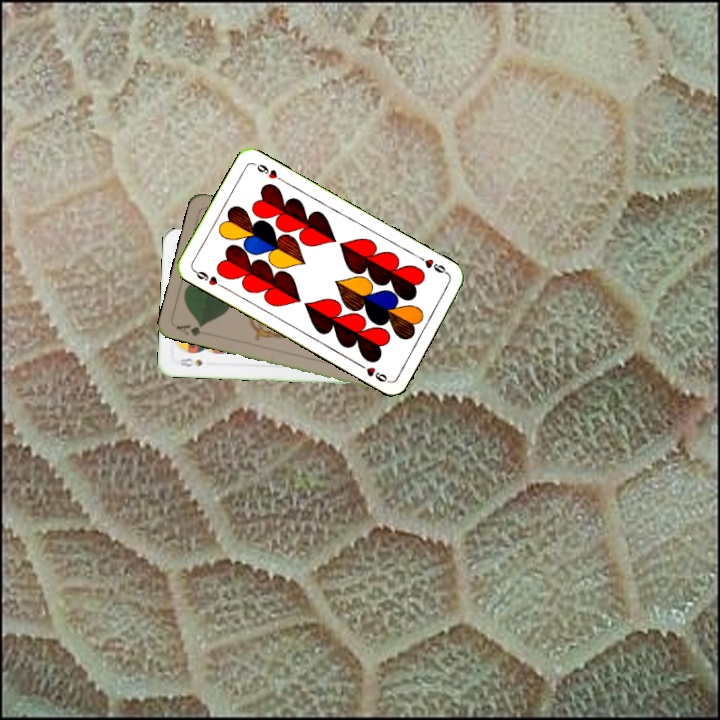GA: (172, 320, 206, 339)
H9: (414, 252, 451, 278), (189, 266, 227, 291)
S8: (172, 354, 205, 369)
